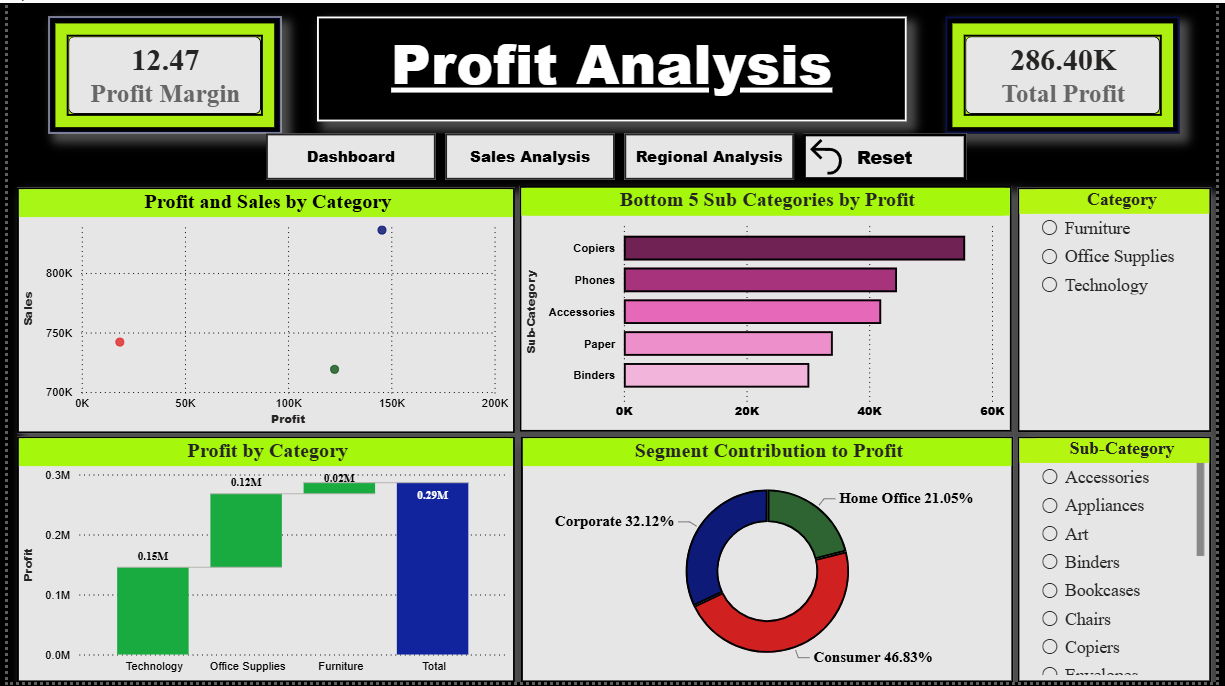

Layout of this report page (visuals, bound fields, positions):
{"tool":"powerbi","page":{"name":"Profit Analysis","canvas":[1280,720],"ordinal":2},"visuals":[{"type":"textbox","box":[327.7,14.3,625.1,111.3],"z":0},{"type":"cardVisual","fields":{"Data":["SampleSuperstore.Total Profit"]},"box":[994.1,14.3,248.1,124.1],"z":1000},{"type":"cardVisual","fields":{"Data":["SampleSuperstore.Profit Margin"]},"box":[42.9,14.3,246.5,124.1],"z":2000},{"type":"scatterChart","title":"Profit and Sales by Category","fields":{"X":["Sum(SampleSuperstore.Profit)"],"Y":["Sum(SampleSuperstore.Sales)"],"Category":["SampleSuperstore.Category"]},"box":[9.5,195.6,528.1,260.9],"z":3000},{"type":"waterfallChart","title":"Profit by Category","fields":{"Category":["SampleSuperstore.Category"],"Y":["Sum(SampleSuperstore.Profit)"]},"box":[9,459.7,528.1,260.9],"z":4000},{"type":"clusteredBarChart","title":"Bottom 5 Sub Categories by Profit","fields":{"Category":["SampleSuperstore.Sub-Category"],"Y":["Sum(SampleSuperstore.Profit)"]},"box":[543,194,521.7,260.9],"z":5000},{"type":"donutChart","title":"Segment Contribution to Profit","fields":{"Category":["SampleSuperstore.Segment"],"Y":["Sum(SampleSuperstore.Profit)"]},"box":[544,459.7,521.7,260.9],"z":6000},{"type":"listSlicer","fields":{"Values":["SampleSuperstore.Category"]},"box":[1070,195.6,205.2,259.3],"z":7000},{"type":"listSlicer","fields":{"Values":["SampleSuperstore.Sub-Category"]},"box":[1071,459.7,205.2,260.9],"z":8000},{"type":"pageNavigator","box":[273.6,138.4,561.5,49.3],"z":9000},{"type":"actionButton","title":"Reset","box":[843,138.4,173.4,49.3],"z":10000}]}

Visuals, with their boxes in screenshot pixels (x1, y1, x2, y2), scaled from the page's 1280x720 canvas onto the 1225x686 screenshot:
textbox: 314:14:912:120
cardVisual - SampleSuperstore.Total Profit: 951:14:1189:132
cardVisual - SampleSuperstore.Profit Margin: 41:14:277:132
"Profit and Sales by Category" scatterChart: 9:186:514:435
"Profit by Category" waterfallChart: 9:438:514:685
"Bottom 5 Sub Categories by Profit" clusteredBarChart: 520:185:1019:433
"Segment Contribution to Profit" donutChart: 521:438:1020:685
listSlicer - SampleSuperstore.Category: 1024:186:1220:433
listSlicer - SampleSuperstore.Sub-Category: 1025:438:1221:685
pageNavigator: 262:132:799:179
"Reset" actionButton: 807:132:973:179
